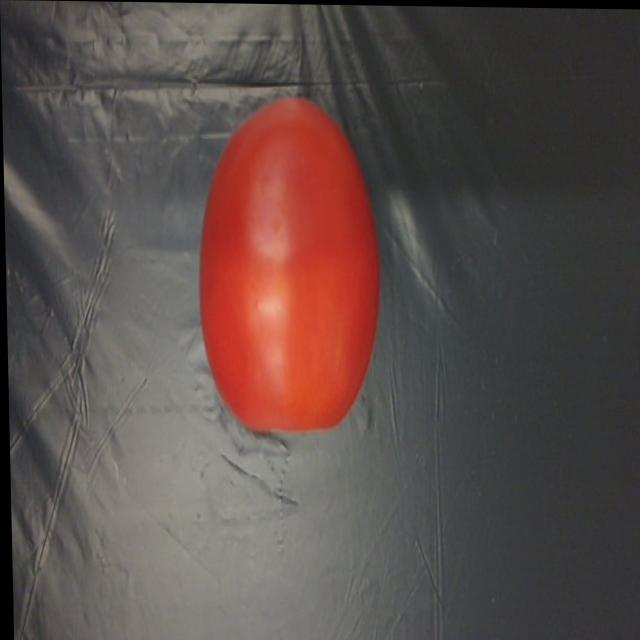kirmizi: (204, 119, 385, 448)
